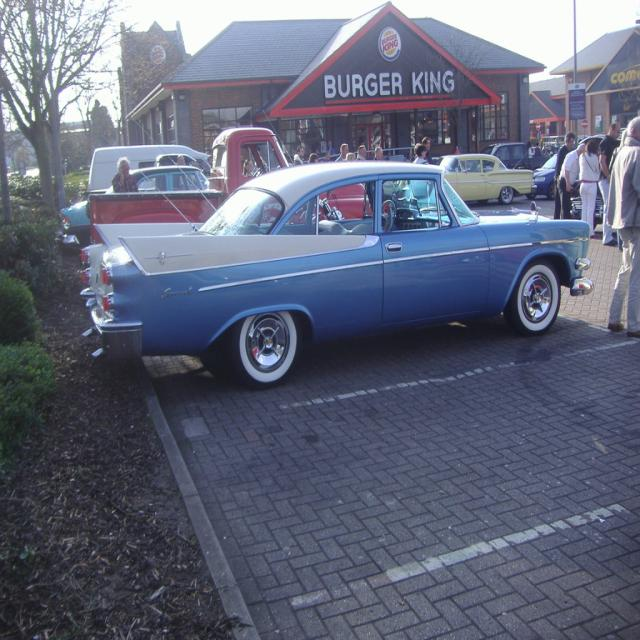car: (78, 113, 594, 388)
